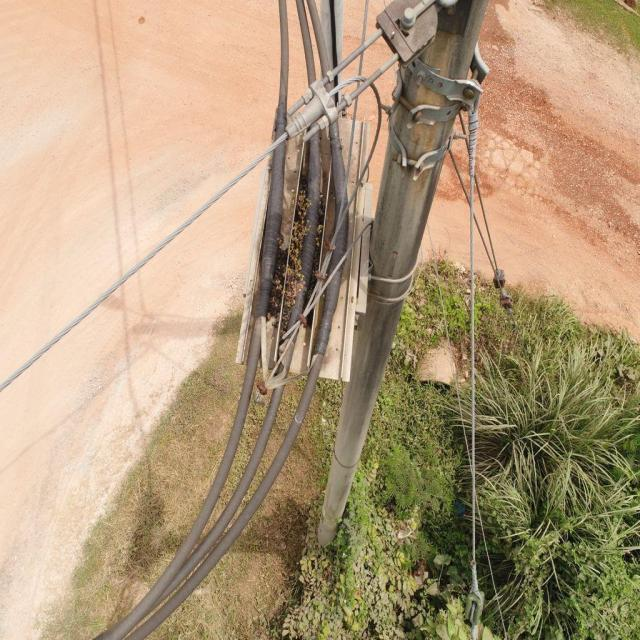critical vegetation: (263, 172, 338, 334)
